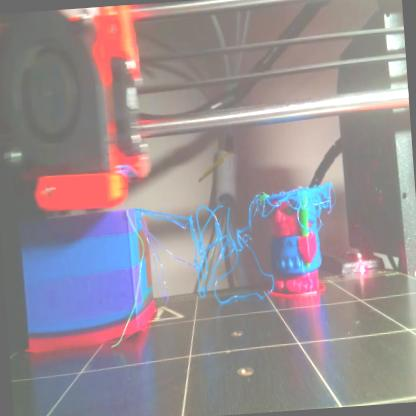fail: (143, 191, 279, 316), (272, 178, 340, 222)
